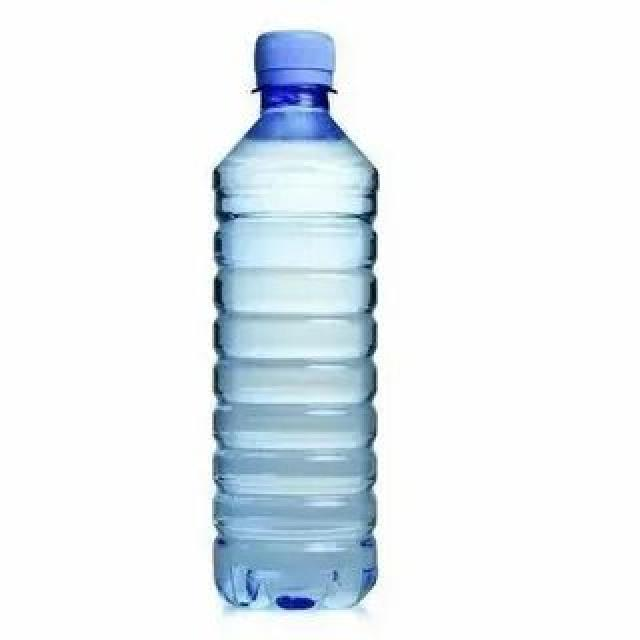blue: (210, 79, 378, 614)
